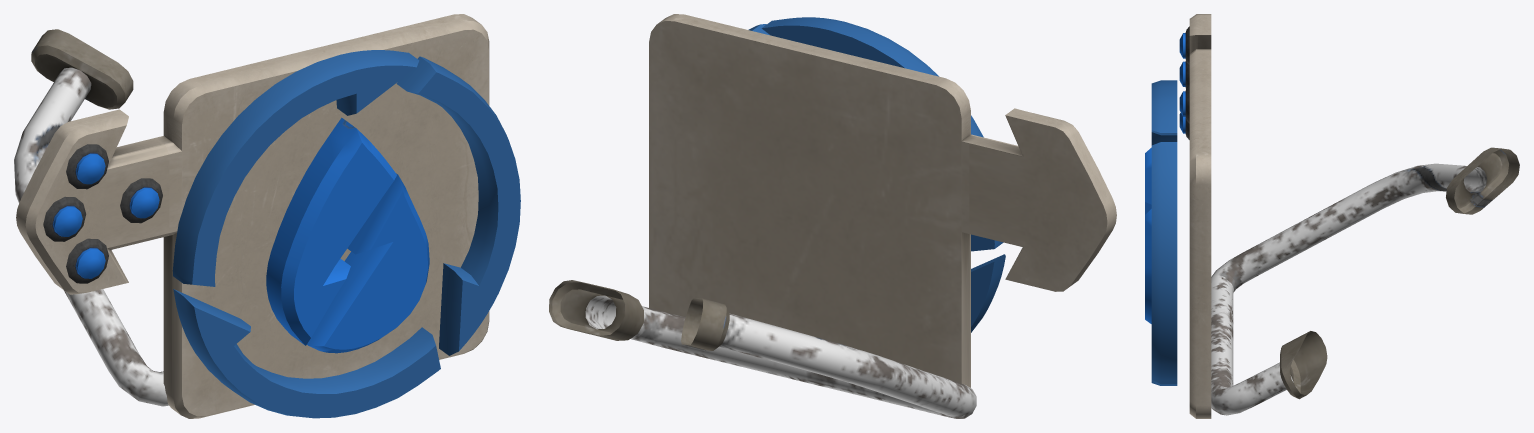
Rendered from WaterGenSignStraight.fbx.
3 views of the same model, side by side, from view 1: azimuth 30°, elevation 25°; view 2: azimuth 150°, elevation 25°; view 3: azimuth 270°, elevation 25° (orthographic). The views are drawn at different scales.
Parts seen in each view (by area): view 1: WaterGenSignStraight; view 2: WaterGenSignStraight; view 3: WaterGenSignStraight.
Part boxes in pixels (<box>): WaterGenSignStraight: <box>14,14,520,418</box>; WaterGenSignStraight: <box>549,14,1116,418</box>; WaterGenSignStraight: <box>1145,14,1519,418</box>.
Size of the model in its own units: 66.52 by 43.61 by 53.39.
Materials: 1 (1 with a texture image).
